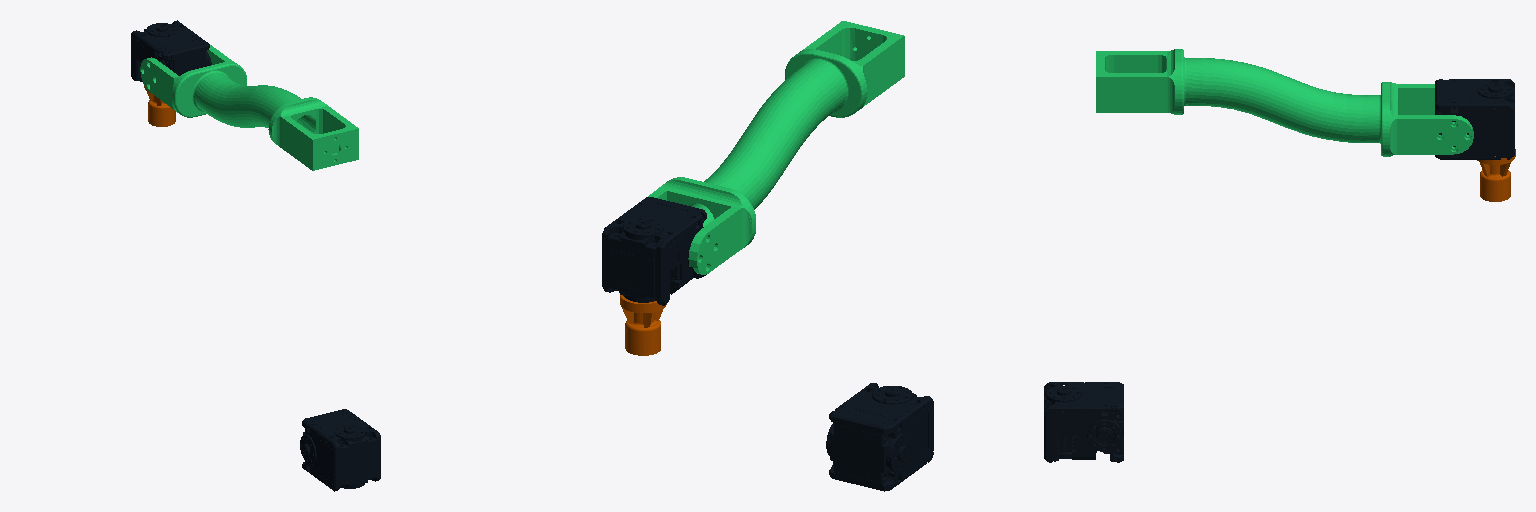
URDF robot description (manipulator_without_gripper):
<?xml version="1.0" encoding="utf-8"?>
<!-- This URDF was automatically created by SolidWorks to URDF Exporter! Originally created by [author] ([email redacted]) 
     Commit Version: 1.6.0-4-g7f85cfe  Build Version: 1.6.7995.38578
     For more information, please see http://wiki.ros.org/sw_urdf_exporter -->
<robot
  name="manipulator_without_gripper">
  <link
    name="base_link">
    <inertial>
      <origin
        xyz="5.34102915090208E-06 0.00149611119634719 0.027324411040906"
        rpy="0 0 0" />
      <mass
        value="0.399055600639488" />
      <inertia
        ixx="0.000594407764139081"
        ixy="1.1064454711189E-07"
        ixz="8.9739729973553E-09"
        iyy="0.000627271304371282"
        iyz="-7.29958201544485E-06"
        izz="0.00113695220568938" />
    </inertial>
    <visual>
      <origin
        xyz="0 0 0"
        rpy="0 0 0" />
      <geometry>
        <mesh
          filename="package://archie_description/meshes/base_link.STL" />
      </geometry>
      <material
        name="">
        <color
          rgba="0.0549 0.4 0.3333 1.0"/>
      </material>
    </visual>
    <collision>
      <origin
        xyz="0 0 0"
        rpy="0 0 0" />
      <geometry>
        <mesh
          filename="package://archie_description/meshes/base_link.STL" />
      </geometry>
    </collision>
  </link>
  <link
    name="link_1">
    <inertial>
      <origin
        xyz="0.000495971250250977 -0.0119998499605218 0.0192958783777655"
        rpy="0 0 0" />
      <mass
        value="0.0569176277607128" />
      <inertia
        ixx="1.43924882902027E-05"
        ixy="5.8212029443598E-10"
        ixz="3.4400350775282E-07"
        iyy="1.02302735970703E-05"
        iyz="-7.69441167803741E-10"
        izz="1.43925048825667E-05" />
    </inertial>
    <visual>
      <origin
        xyz="0 0 0"
        rpy="0 0 0" />
      <geometry>
        <mesh
          filename="package://archie_description/meshes/link_1.STL" />
      </geometry>
      <material
        name="">
        <color
          rgba="0.09019 0.12549 0.164706 1.0"/>
      </material>
    </visual>
    <collision>
      <origin
        xyz="0 0 0"
        rpy="0 0 0" />
      <geometry>
        <mesh
          filename="package://archie_description/meshes/link_1.STL" />
      </geometry>
    </collision>
  </link>
  <joint
    name="joint_1"
    type="revolute">
    <origin
      xyz="0 0 0.07"
      rpy="0 0 3.14159265358979" />
    <parent
      link="base_link" />
    <child
      link="link_1" />
    <axis
      xyz="0 0 1" />
    <limit
      lower="0"
      upper="3.14"
      effort="0"
      velocity="0" />
  </joint>
  <link
    name="link_2">
    <inertial>
      <origin
        xyz="-0.00775223885247785 0.0986651693444382 3.09623365034016E-07"
        rpy="0 0 0" />
      <mass
        value="0.102283747087815" />
      <inertia
        ixx="0.000324874196102824"
        ixy="5.73246689425899E-05"
        ixz="5.45918906914281E-12"
        iyy="4.21097504903959E-05"
        iyz="-1.01732171356661E-09"
        izz="0.000321802212764245" />
    </inertial>
    <visual>
      <origin
        xyz="0 0 0"
        rpy="0 0 0" />
      <geometry>
        <mesh
          filename="package://archie_description/meshes/link_2.STL" />
      </geometry>
      <material
        name="">
        <color
          rgba="0.1804 0.8 0.4431 1.0"/>
      </material>
    </visual>
    <collision>
      <origin
        xyz="0 0 0"
        rpy="0 0 0" />
      <geometry>
        <mesh
          filename="package://archie_description/meshes/link_2.STL" />
      </geometry>
    </collision>
  </link>
  <joint
    name="joint_2"
    type="revolute">
    <origin
      xyz="0 -0.02 0.02"
      rpy="1.5707963267949 0 -1.5707963267949" />
    <parent
      link="link_1" />
    <child
      link="link_2" />
    <axis
      xyz="0 0 1" />
    <limit
      lower="0"
      upper="3.14"
      effort="0"
      velocity="0" />
  </joint>
  <link
    name="link_3">
    <inertial>
      <origin
        xyz="0.00579985031859209 0.00049597140269868 0.000495878377765528"
        rpy="0 0 0" />
      <mass
        value="0.0569176277607128" />
      <inertia
        ixx="1.02302735970703E-05"
        ixy="-5.8212029443346E-10"
        ixz="7.69441167804177E-10"
        iyy="1.43924882902027E-05"
        iyz="3.44003507752819E-07"
        izz="1.43925048825667E-05" />
    </inertial>
    <visual>
      <origin
        xyz="0 0 0"
        rpy="0 0 0" />
      <geometry>
        <mesh
          filename="package://archie_description/meshes/link_3.STL" />
      </geometry>
      <material
        name="">
        <color
          rgba="0.09019 0.12549 0.164706 1.0"/>
      </material>
    </visual>
    <collision>
      <origin
        xyz="0 0 0"
        rpy="0 0 0" />
      <geometry>
        <mesh
          filename="package://archie_description/meshes/link_3.STL" />
      </geometry>
    </collision>
  </link>
  <joint
    name="joint_3"
    type="revolute">
    <origin
      xyz="-0.02 0.2 0"
      rpy="0 0 1.5707963267949" />
    <parent
      link="link_2" />
    <child
      link="link_3" />
    <axis
      xyz="0 0 1" />
    <limit
      lower="0"
      upper="3.14"
      effort="0"
      velocity="0" />
  </joint>
  <link
    name="link_4">
    <inertial>
      <origin
        xyz="-0.0140962967782675 4.3316564722483E-07 0.105115025906125"
        rpy="0 0 0" />
      <mass
        value="0.105070462984835" />
      <inertia
        ixx="0.000389981365707822"
        ixy="-2.10320734829657E-10"
        ixz="6.30292189438459E-05"
        iyy="0.000391756095860733"
        iyz="9.03524468093685E-10"
        izz="3.63349359947086E-05" />
    </inertial>
    <visual>
      <origin
        xyz="0 0 0"
        rpy="0 0 0" />
      <geometry>
        <mesh
          filename="package://archie_description/meshes/link_4.STL" />
      </geometry>
      <material
        name="">
        <color
          rgba="0.1804 0.8 0.4431 1.0"/>
      </material>
    </visual>
    <collision>
      <origin
        xyz="0 0 0"
        rpy="0 0 0" />
      <geometry>
        <mesh
          filename="package://archie_description/meshes/link_4.STL" />
      </geometry>
    </collision>
  </link>
  <joint
    name="joint_4"
    type="revolute">
    <origin
      xyz="0.02 -0.02 0"
      rpy="1.5708 0 0" />
    <parent
      link="link_3" />
    <child
      link="link_4" />
    <axis
      xyz="0 0 1" />
    <limit
      lower="0"
      upper="0"
      effort="3.14"
      velocity="0" />
  </joint>
  <link
    name="link_5">
    <inertial>
      <origin
        xyz="-0.00570412111171631 -0.00950015024510054 0.000495971250250972"
        rpy="0 0 0" />
      <mass
        value="0.0569176277607128" />
      <inertia
        ixx="1.43925048825667E-05"
        ixy="7.69441167793856E-10"
        ixz="3.44003507752818E-07"
        iyy="1.02302735970703E-05"
        iyz="-5.82120294434191E-10"
        izz="1.43924882902027E-05" />
    </inertial>
    <visual>
      <origin
        xyz="0 0 0"
        rpy="0 0 0" />
      <geometry>
        <mesh
          filename="package://archie_description/meshes/link_5.STL" />
      </geometry>
      <material
        name="">
        <color
          rgba="0.09019 0.12549 0.164706 1.0"/>
      </material>
    </visual>
    <collision>
      <origin
        xyz="0 0 0"
        rpy="0 0 0" />
      <geometry>
        <mesh
          filename="package://archie_description/meshes/link_5.STL" />
      </geometry>
    </collision>
  </link>
  <joint
    name="joint_5"
    type="revolute">
    <origin
      xyz="-0.02 0 0.21"
      rpy="-1.5708 0 0" />
    <parent
      link="link_4" />
    <child
      link="link_5" />
    <axis
      xyz="0 0 1" />
    <limit
      lower="0"
      upper="3.14"
      effort="0"
      velocity="0" />
  </joint>
  <link
    name="link_6">
    <inertial>
      <origin
        xyz="0.00150031581679505 1.12647433023364E-07 -0.00311135220148784"
        rpy="0 0 0" />
      <mass
        value="0.00645822149439777" />
      <inertia
        ixx="6.51155688953516E-07"
        ixy="-7.61605742280883E-12"
        ixz="2.21514473144782E-11"
        iyy="6.51149469280369E-07"
        iyz="1.82035089965422E-12"
        izz="3.60669281322455E-07" />
    </inertial>
    <visual>
      <origin
        xyz="0 0 0"
        rpy="0 0 0" />
      <geometry>
        <mesh
          filename="package://archie_description/meshes/link_62.STL" />
      </geometry>
      <material
        name="">
        <color
          rgba="0.729411764705882 0.356862745098039 0.0235294117647059 1" />
      </material>
    </visual>
    <collision>
      <origin
        xyz="0 0 0"
        rpy="0 0 0" />
      <geometry>
        <mesh
          filename="package://archie_description/meshes/link_62.STL" />
      </geometry>
    </collision>
  </link>
  <joint
    name="joint_6"
    type="revolute">
    <origin
      xyz="-0.04 -0.02 0"
      rpy="1.5708 0 -1.5708" />
    <parent
      link="link_5" />
    <child
      link="link_6" />
    <axis
      xyz="0 0 1" />
    <limit
      lower="0"
      upper="3.14"
      effort="0"
      velocity="0" />
  </joint>
</robot>

--- What the picture shows (computed from the rendered views, not written in the file) ---
Views: 3 orthographic renders of the robot side by side, from view 1: azimuth 30°, elevation 25°; view 2: azimuth 150°, elevation 25°; view 3: azimuth 270°, elevation 25°.
Robot: manipulator_without_gripper — 7 links, 6 joints (6 revolute); root link base_link; default pose: all joints at 0.
Visible links, largest first — view 1: link_4, link_1, link_5, link_6; view 2: link_4, link_1, link_5, link_6; view 3: link_4, link_1, link_5, link_6.
Boxes of the visible links, x1,y1,x2,y2 form: link_4: (140, 45, 358, 170); link_1: (300, 409, 380, 491); link_5: (131, 20, 211, 81); link_6: (144, 86, 175, 126); link_4: (643, 21, 904, 274); link_1: (826, 383, 933, 491); link_5: (602, 197, 706, 305); link_6: (620, 295, 666, 355); link_4: (1096, 49, 1473, 156); link_1: (1044, 382, 1123, 462); link_5: (1435, 79, 1514, 159); link_6: (1477, 149, 1515, 201).
Bounding box of the posed robot: 0.056 × 0.2745 × 0.2555 m (x, y, z).
Meshes: 7 distinct files referenced, 4 mesh visuals loaded (4 binary STL); not drawn: 3 (reference not matched to a file when rendering).
